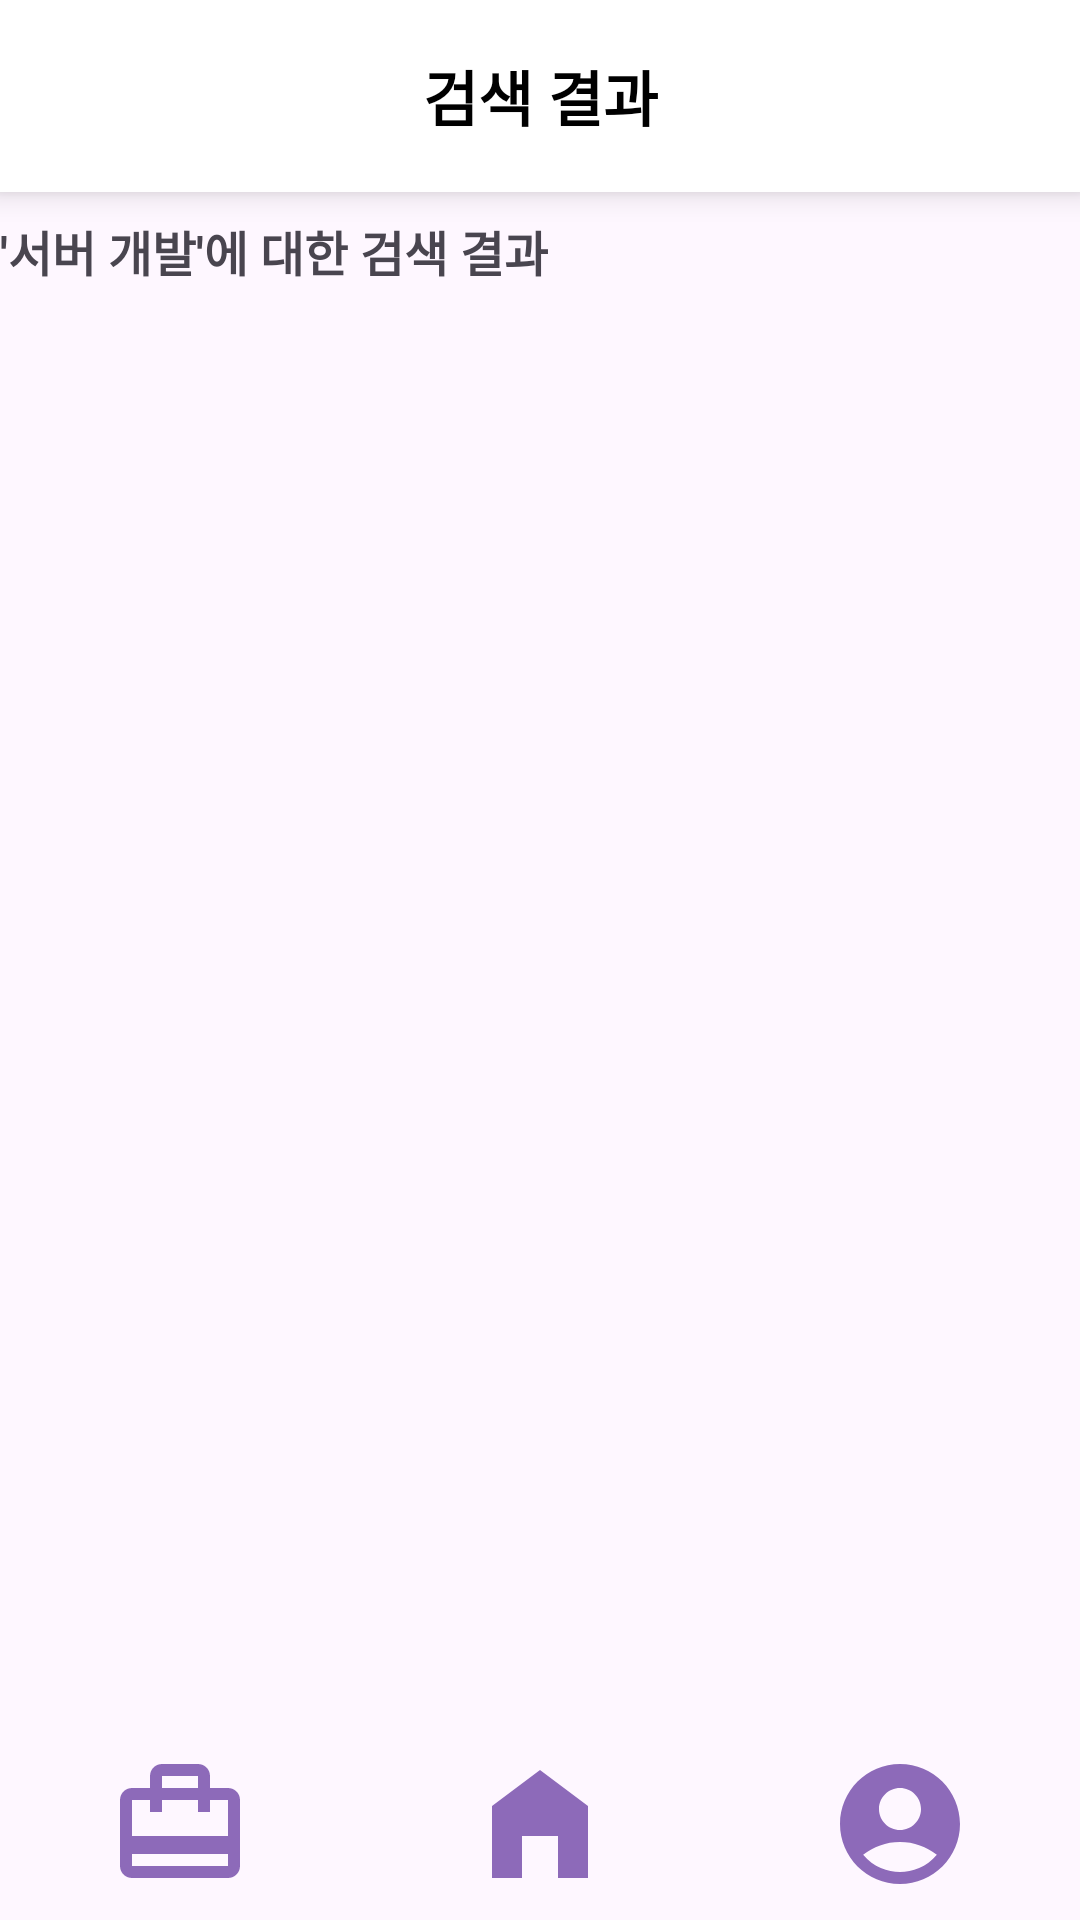

Where icons sit on this 1080w x 1920h app screen, as (x1, y1, x2, y2):
home: (492, 1770, 588, 1878)
projects: (120, 1764, 240, 1878)
